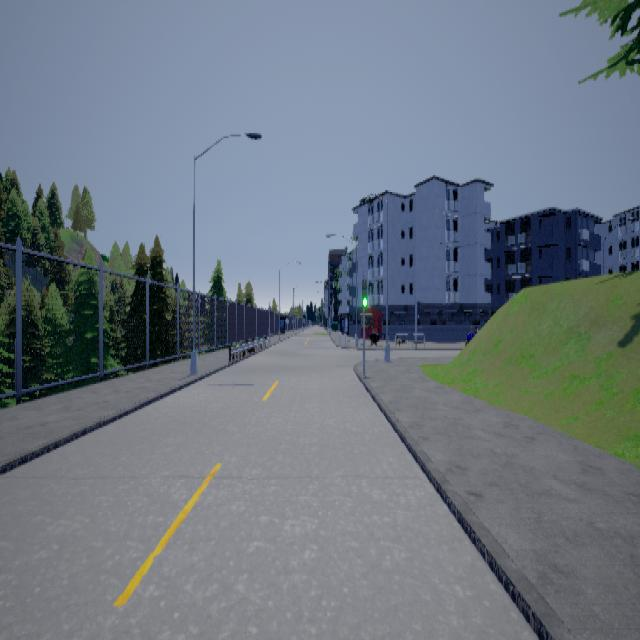green_light: (361, 271, 366, 312)
